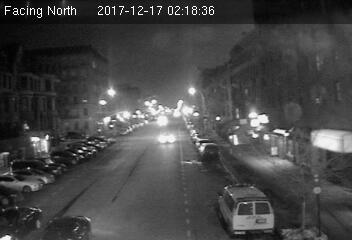car: (34, 214, 94, 240), (157, 132, 178, 146)
police: (213, 183, 274, 234)
